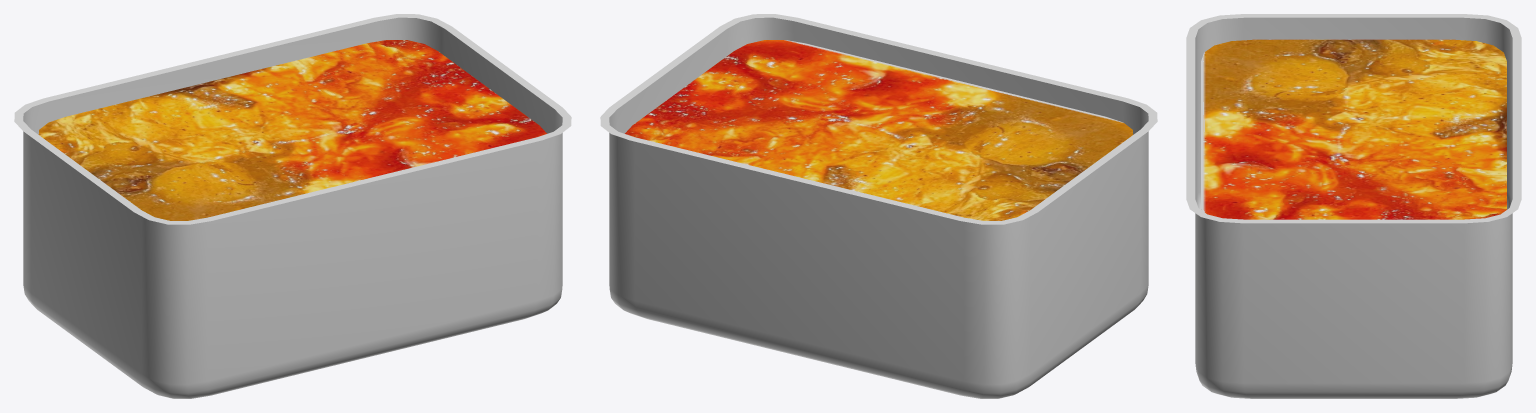
File: hzhbrdbf.FBX
3 renders of one model, left to right at view 1: azimuth 30°, elevation 25°; view 2: azimuth 150°, elevation 25°; view 3: azimuth 270°, elevation 25°, orthographic.
Parts seen in each view (by area): view 1: Box001; view 2: Box001; view 3: Box001.
Part boxes in pixels (x1,y1,x2,y2): Box001: [14, 14, 571, 398]; Box001: [600, 14, 1157, 398]; Box001: [1186, 14, 1521, 398].
Bounding box in the file's own units: 0.1169 × 0.0481 × 0.0791.
